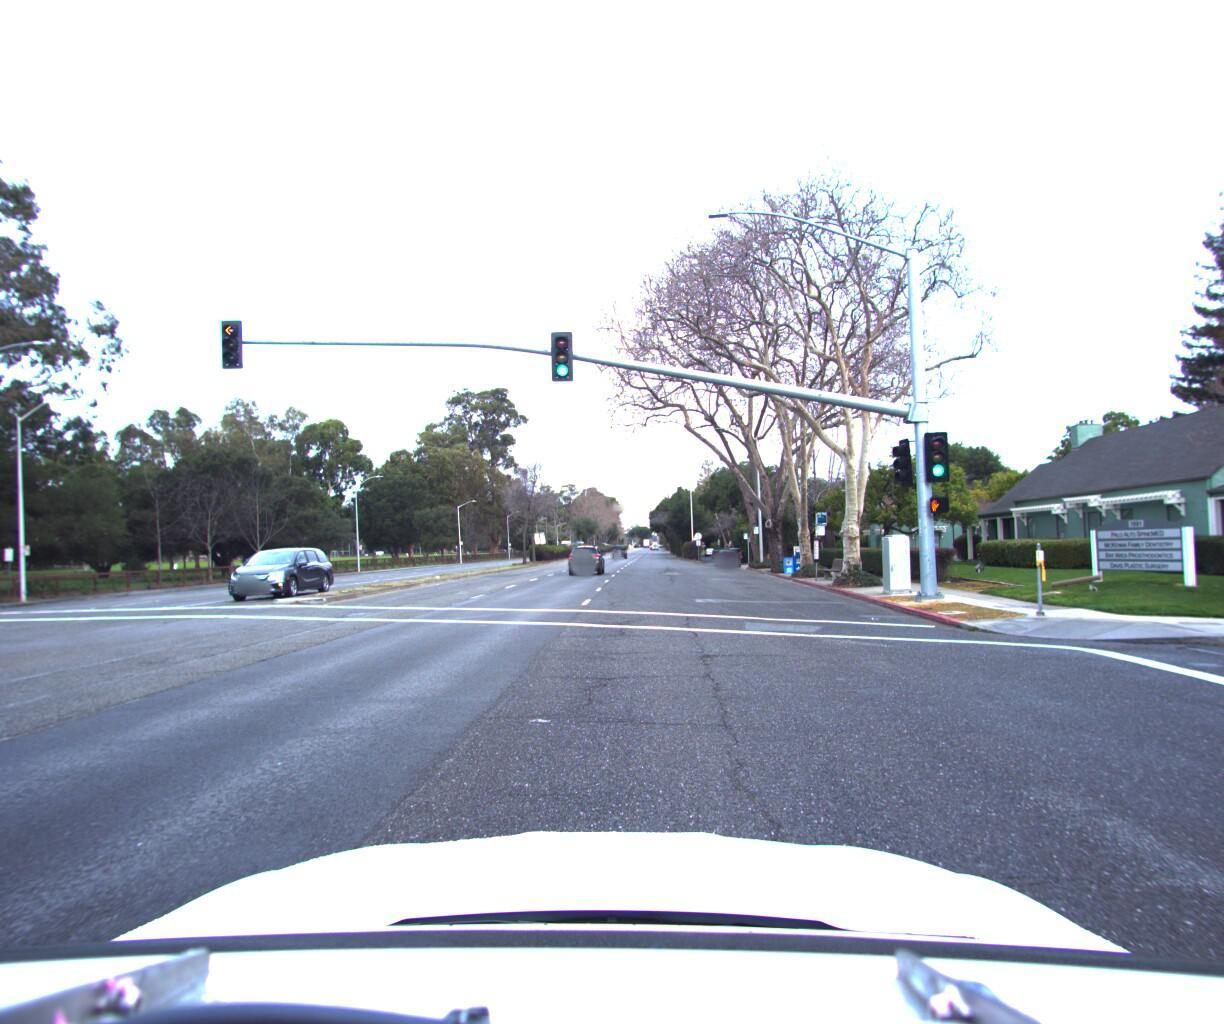car: (219, 539, 342, 601), (565, 538, 607, 573), (714, 540, 740, 562)
